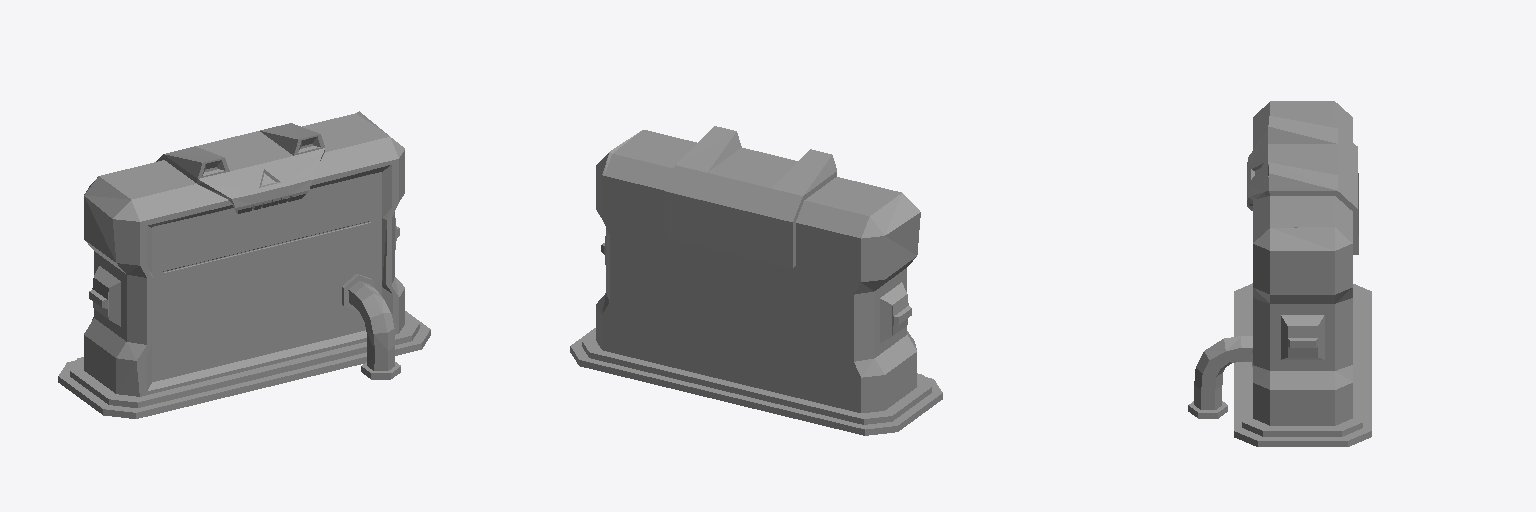
File: Screen-box.obj
The picture shows the model from 3 angles: view 1: azimuth 30°, elevation 25°; view 2: azimuth 150°, elevation 25°; view 3: azimuth 270°, elevation 25°; orthographic projection.
Parts seen in each view (by area): view 1: screen-box_Cube.004; view 2: screen-box_Cube.004; view 3: screen-box_Cube.004.
Part boxes in pixels (x1,y1,x2,y2): screen-box_Cube.004: (58, 111, 430, 418); screen-box_Cube.004: (570, 126, 942, 435); screen-box_Cube.004: (1188, 101, 1371, 446).
Bounding box in the file's own units: 11.89 × 7.75 × 5.77.